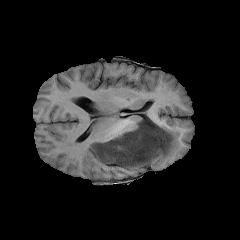glioma: (88, 111, 179, 167)
